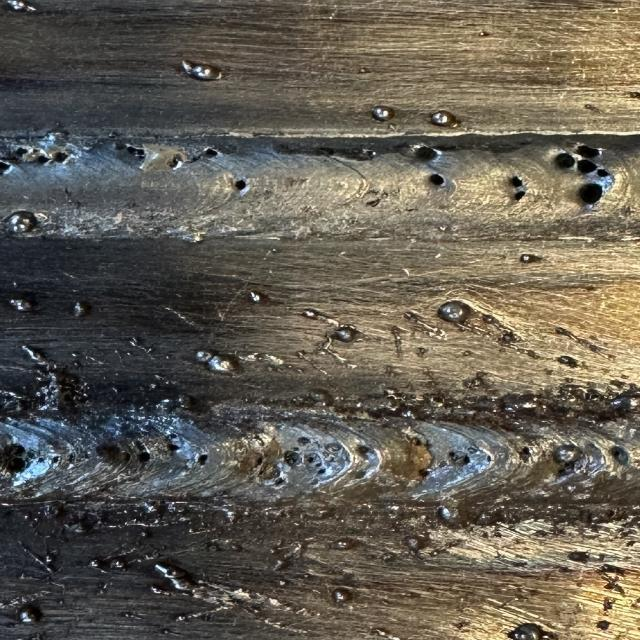Spatters: (558, 355, 580, 365), (374, 629, 389, 639), (632, 504, 640, 511), (272, 248, 280, 254), (608, 355, 614, 360)
